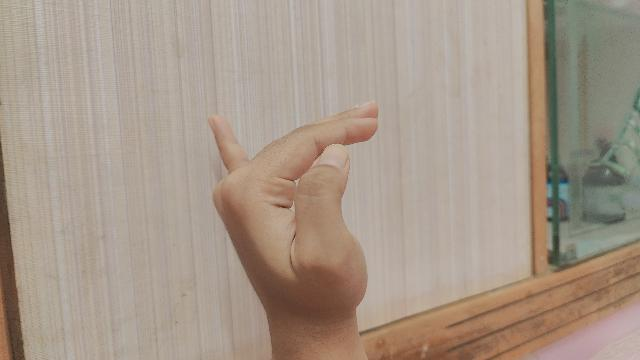Hamsapaksha: (205, 102, 378, 360)
